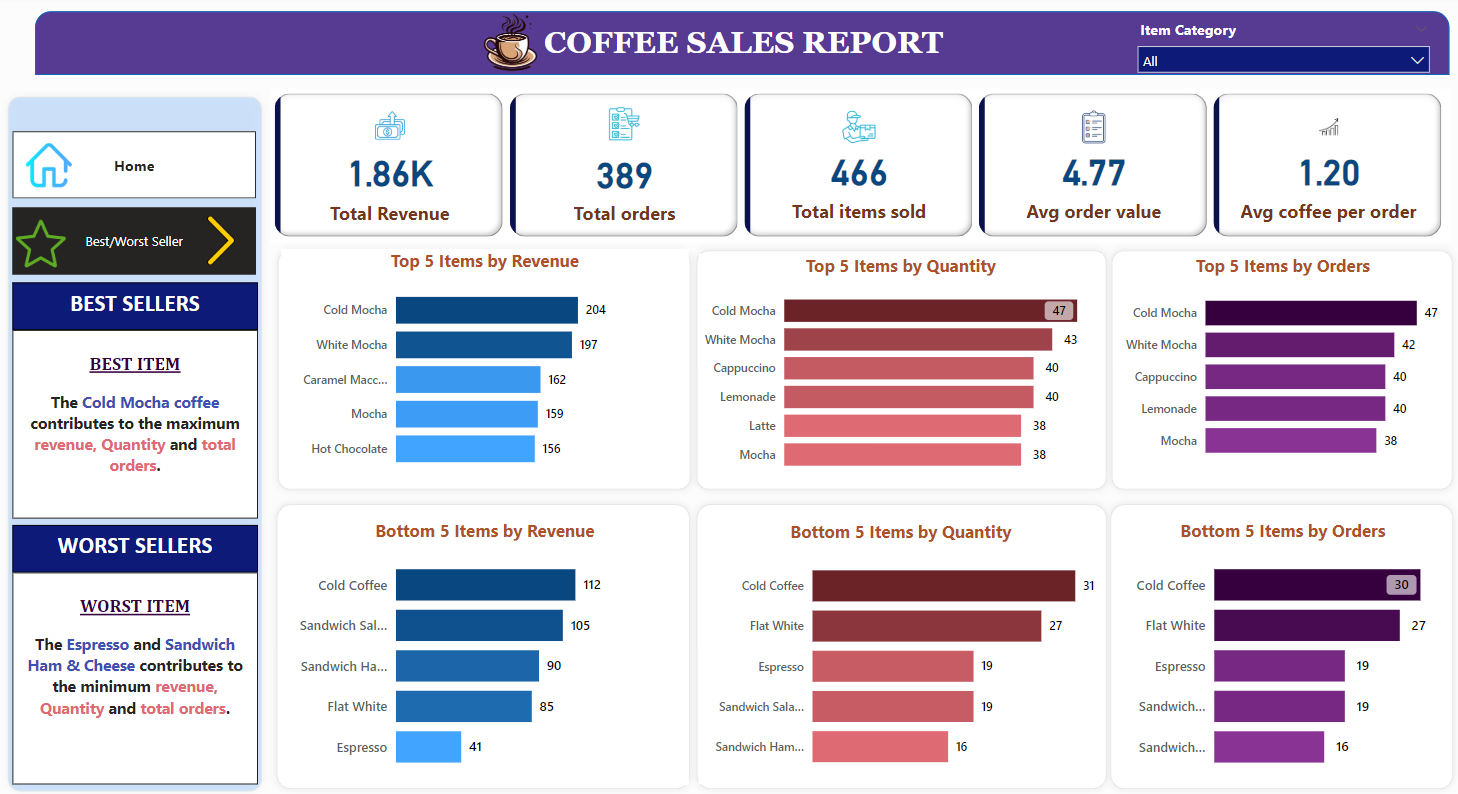

The dashboard page shown, as its layout file describes it:
{"tool":"powerbi","page":{"name":"Duplicate of Home","canvas":[1500,820],"ordinal":1},"visuals":[{"type":"cardVisual","fields":{"Data":["All Measures.Total Revenue","All Measures.Total orders","All Measures.Total items sold","All Measures.Average order value","All Measures.Average coffee per order"]},"box":[277.1,90.5,1211.6,157.4],"z":0},{"type":"shape","box":[36.2,11.1,1452.6,65.5],"z":1000},{"type":"textbox","box":[536.2,20.9,454,48.7],"z":2000},{"type":"image","box":[193.6,7,661.5,73.8],"z":3000},{"type":"shape","box":[277.1,249.3,440.1,261.8],"z":4000},{"type":"shape","box":[0,90.5,277.1,729.8],"z":5000},{"type":"textbox","box":[12.5,289.7,252.1,48.7],"z":6000},{"type":"slicer","fields":{"Values":["coffeesales coffee_report.item_cat"]},"box":[1157.3,15.3,320.3,61.3],"z":10000},{"type":"shape","box":[707.5,249.3,437.3,261.8],"z":11000},{"type":"shape","box":[1133.6,249.3,366.3,261.8],"z":12000},{"type":"clusteredBarChart","title":"Top 5 Items by Revenue","fields":{"Category":["coffeesales coffee_report.item_name"],"Y":["All Measures.Total Revenue"]},"box":[289.5,255.7,418.1,239.6],"z":13000},{"type":"shape","box":[276.6,509.8,440.6,308.7],"z":14000},{"type":"shape","box":[707.5,509.8,437.4,308.7],"z":15000},{"type":"shape","box":[1132.1,509.8,368.2,308.7],"z":16000},{"type":"clusteredBarChart","title":"Bottom 5 Items by Revenue","fields":{"Category":["coffeesales coffee_report.item_name"],"Y":["All Measures.Total Revenue"]},"box":[289.5,532.3,418.1,273.4],"z":17000},{"type":"clusteredBarChart","title":"Top 5 Items by Quantity","fields":{"Category":["coffeesales coffee_report.item_name"],"Y":["All Measures.Total items sold"]},"box":[717.2,260.4,415,235.4],"z":18000},{"type":"clusteredBarChart","title":"Bottom 5 Items by Quantity","fields":{"Category":["coffeesales coffee_report.item_name"],"Y":["All Measures.Total items sold"]},"box":[717.2,533.4,415,271.6],"z":19000},{"type":"clusteredBarChart","title":"Top 5 Items by Orders","fields":{"Category":["coffeesales coffee_report.item_name"],"Y":["All Measures.Total orders"]},"box":[1149.8,260.5,334.5,223.5],"z":20000},{"type":"clusteredBarChart","title":"Bottom 5 Items by Orders","fields":{"Category":["coffeesales coffee_report.item_name"],"Y":["All Measures.Total orders"]},"box":[1149.8,532.3,334.5,273.4],"z":21000},{"type":"pageNavigator","box":[12.5,135.1,250.7,69.6],"z":22000},{"type":"pageNavigator","box":[12.5,213.1,250.7,69.6],"z":23000},{"type":"image","box":[193.6,217.3,66.8,59.9],"z":24000},{"type":"image","box":[22.3,140.7,57.1,57.1],"z":25000},{"type":"image","box":[11.1,218.6,61.3,64.1],"z":26000},{"type":"textbox","box":[12.5,539,252.1,48.7],"z":26001},{"type":"textbox","box":[12.5,338.4,252.1,193.6],"z":26002},{"type":"textbox","box":[12.5,587.7,252.1,217.3],"z":26003}]}

Visuals, with their boxes in screenshot pixels (x1, y1, x2, y2), scaled from the page's 1500x820 canvas onto the 1458x794 screenshot:
cardVisual - All Measures.Total Revenue x All Measures.Total orders: {"left": 269, "top": 88, "right": 1447, "bottom": 240}
shape: {"left": 35, "top": 11, "right": 1447, "bottom": 74}
textbox: {"left": 521, "top": 20, "right": 962, "bottom": 67}
image: {"left": 188, "top": 7, "right": 831, "bottom": 78}
shape: {"left": 269, "top": 241, "right": 697, "bottom": 495}
shape: {"left": 0, "top": 88, "right": 269, "bottom": 793}
textbox: {"left": 12, "top": 281, "right": 257, "bottom": 328}
slicer - coffeesales coffee_report.item_cat: {"left": 1125, "top": 15, "right": 1436, "bottom": 74}
shape: {"left": 688, "top": 241, "right": 1113, "bottom": 495}
shape: {"left": 1102, "top": 241, "right": 1457, "bottom": 495}
"Top 5 Items by Revenue" clusteredBarChart: {"left": 281, "top": 248, "right": 688, "bottom": 480}
shape: {"left": 269, "top": 494, "right": 697, "bottom": 793}
shape: {"left": 688, "top": 494, "right": 1113, "bottom": 793}
shape: {"left": 1100, "top": 494, "right": 1457, "bottom": 793}
"Bottom 5 Items by Revenue" clusteredBarChart: {"left": 281, "top": 515, "right": 688, "bottom": 780}
"Top 5 Items by Quantity" clusteredBarChart: {"left": 697, "top": 252, "right": 1100, "bottom": 480}
"Bottom 5 Items by Quantity" clusteredBarChart: {"left": 697, "top": 516, "right": 1100, "bottom": 779}
"Top 5 Items by Orders" clusteredBarChart: {"left": 1118, "top": 252, "right": 1443, "bottom": 469}
"Bottom 5 Items by Orders" clusteredBarChart: {"left": 1118, "top": 515, "right": 1443, "bottom": 780}
pageNavigator: {"left": 12, "top": 131, "right": 256, "bottom": 198}
pageNavigator: {"left": 12, "top": 206, "right": 256, "bottom": 274}
image: {"left": 188, "top": 210, "right": 253, "bottom": 268}
image: {"left": 22, "top": 136, "right": 77, "bottom": 192}
image: {"left": 11, "top": 212, "right": 70, "bottom": 274}
textbox: {"left": 12, "top": 522, "right": 257, "bottom": 569}
textbox: {"left": 12, "top": 328, "right": 257, "bottom": 515}
textbox: {"left": 12, "top": 569, "right": 257, "bottom": 779}
